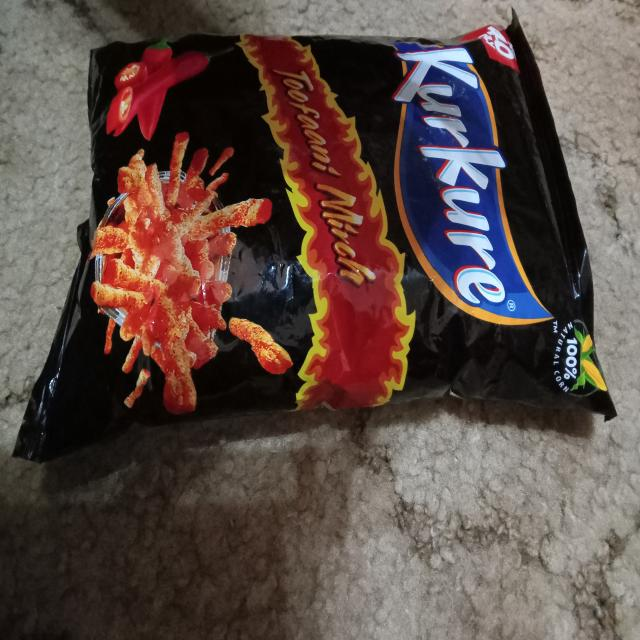Plastic: (11, 8, 626, 470)
